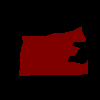gonna: (18, 26, 88, 76)
